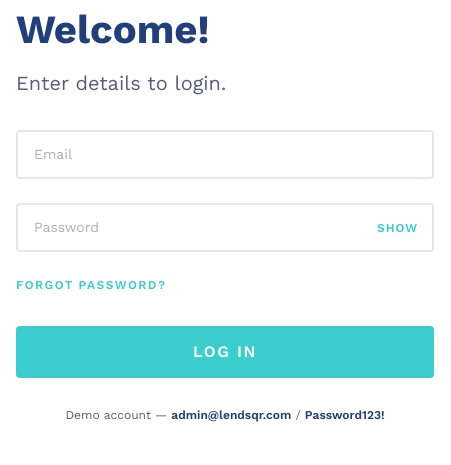
Scenario: LoginPage › validation › shows validation error for invalid email
Type "not-an-email" into the field with placeholder "Email" at (225, 154), box x1=16 y1=130 x2=434 y2=179
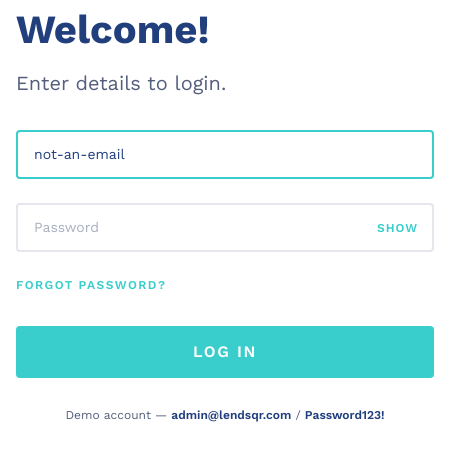
Type "password123" into the password field with placeholder "Password" at (225, 228), box x1=16 y1=203 x2=434 y2=252
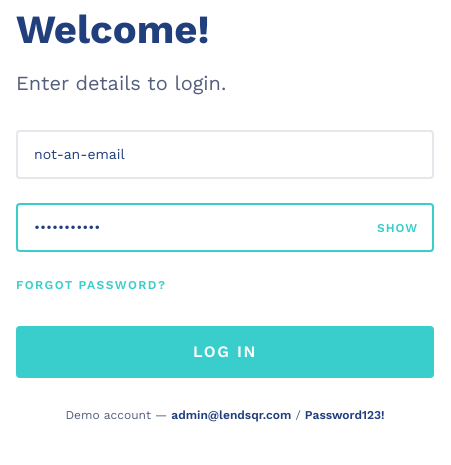
Click the button "LOG IN" at (225, 352), box x1=16 y1=326 x2=434 y2=378
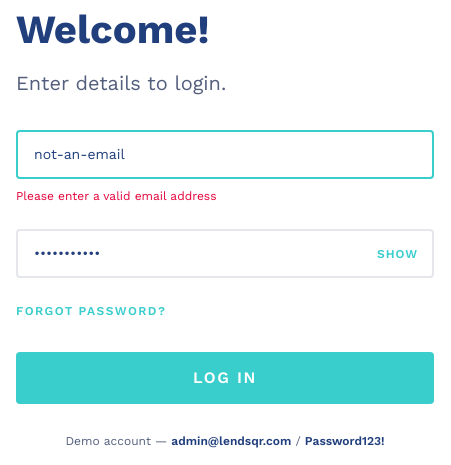
Now the text "Please enter a valid email address" is shown, box x1=16 y1=189 x2=216 y2=203
